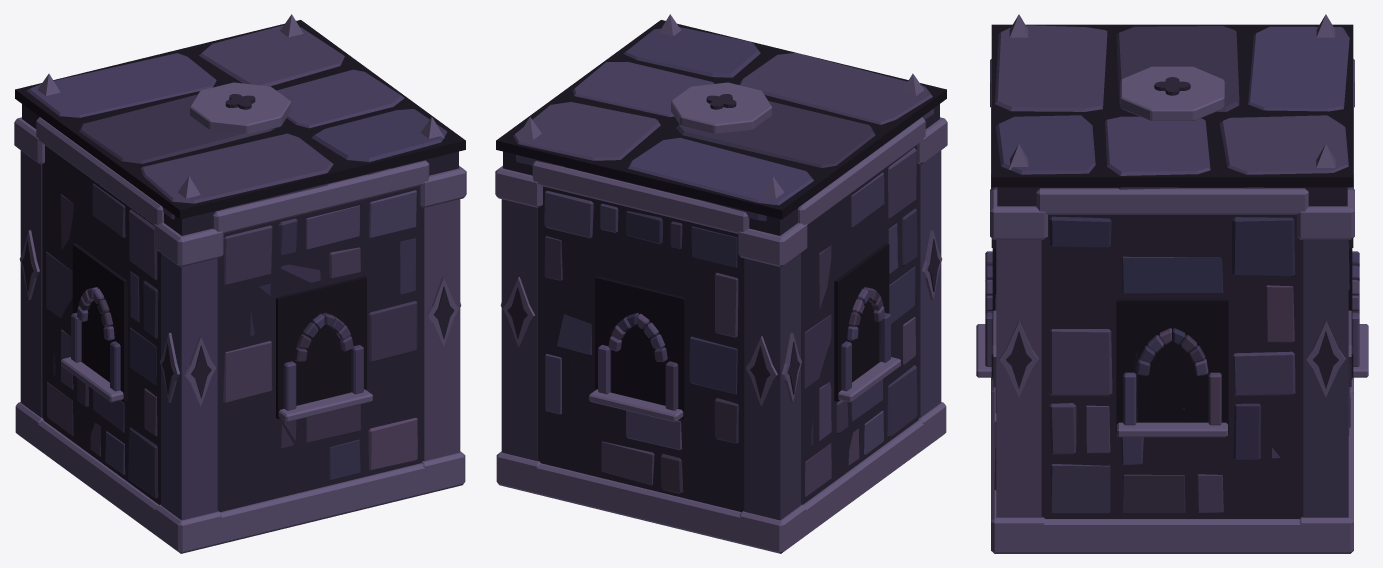
File: wall_a.fbx
3 renders of one model, left to right at view 1: azimuth 30°, elevation 25°; view 2: azimuth 150°, elevation 25°; view 3: azimuth 270°, elevation 25°, orthographic. The views are drawn at different scales.
Parts seen in each view (by area): view 1: wall_a; view 2: wall_a; view 3: wall_a.
Boxes of the visible parts, <box> form: wall_a: <box>14,14,466,553</box>; wall_a: <box>495,14,947,553</box>; wall_a: <box>976,14,1368,553</box>.
Size of the model in its own units: 4 by 4.5 by 4.
